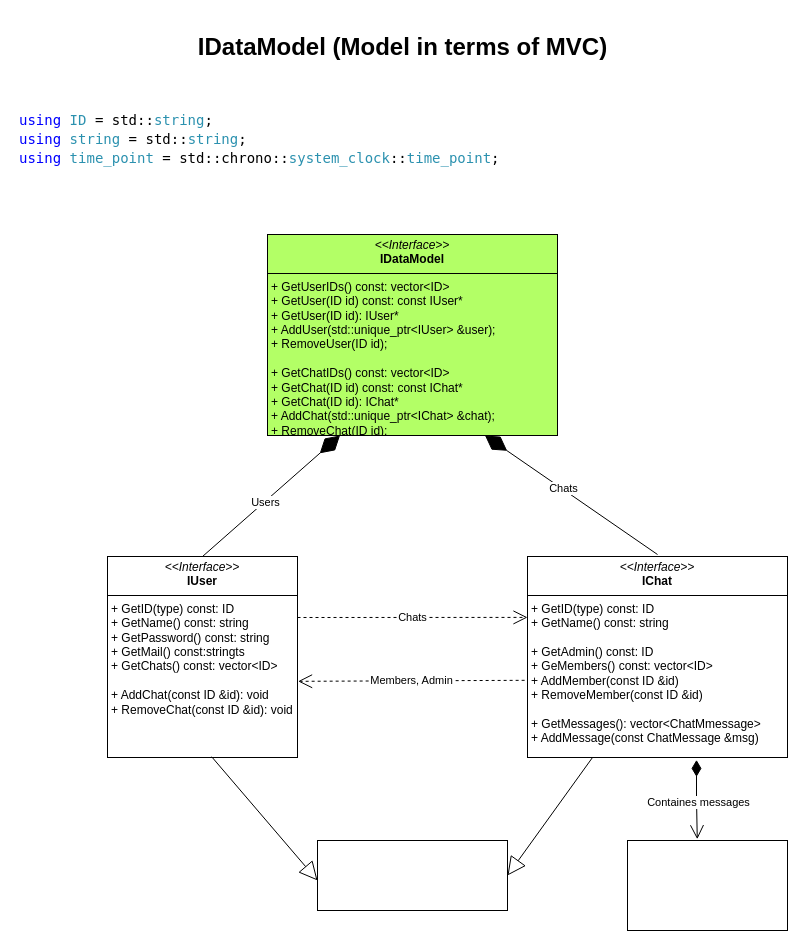
Some shapes in this 805 by 948 pixel diagram are drawn without their labels. Here are the shapes that lost their labels. From the top down, the centre of each, then its label:
At [412,875]: "<<Interface>> IEntity + GetID(type) const: ID".
At [707,885]: "ChatMessage + sender: ID + text: string + send_time: time_point".
